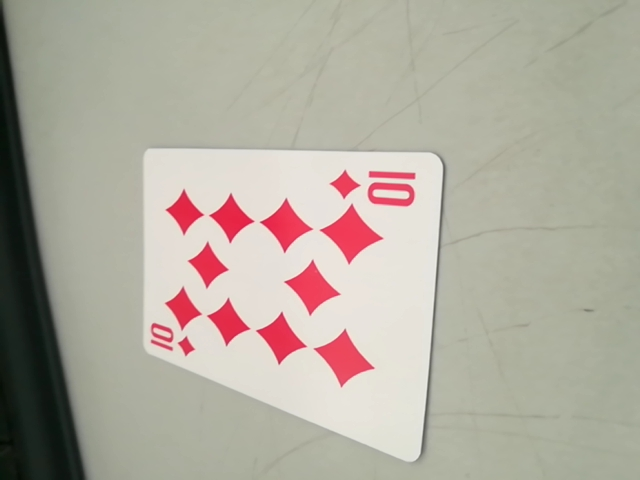fk 10: (329, 162, 424, 210), (143, 319, 203, 365)
